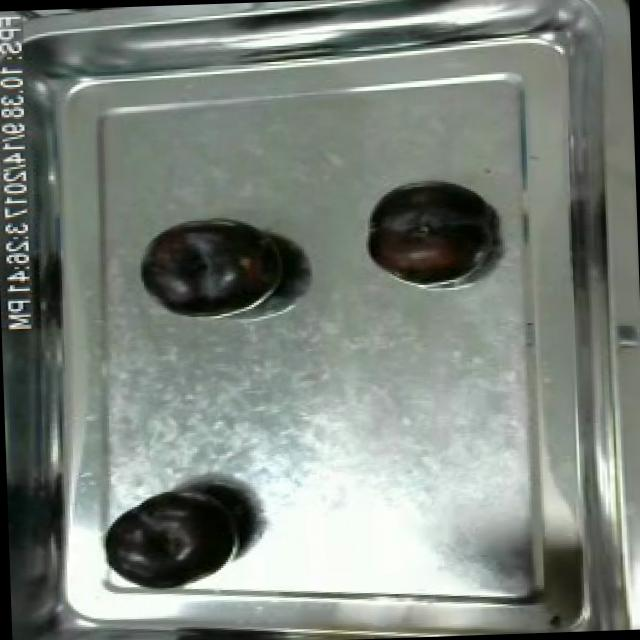Fruit: (95, 478, 255, 594), (133, 213, 292, 316), (360, 174, 490, 280)
